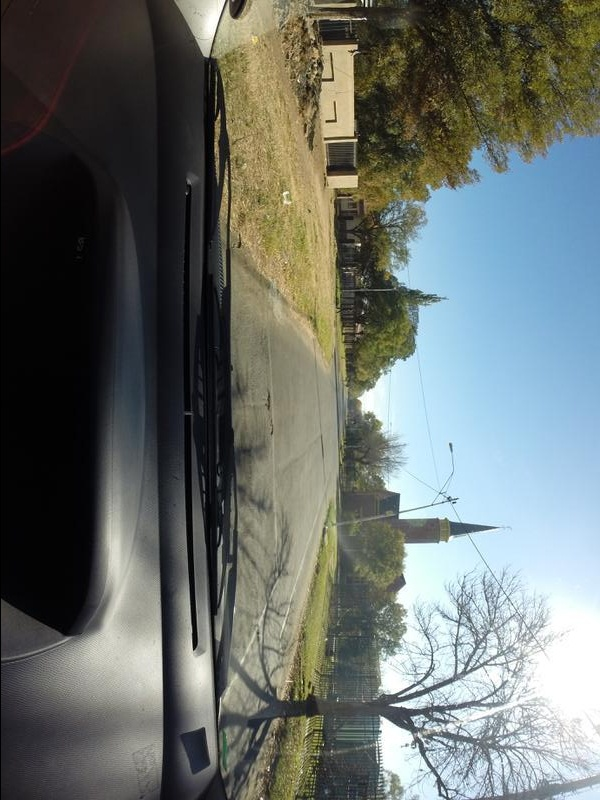pothole: (252, 382, 280, 440)
